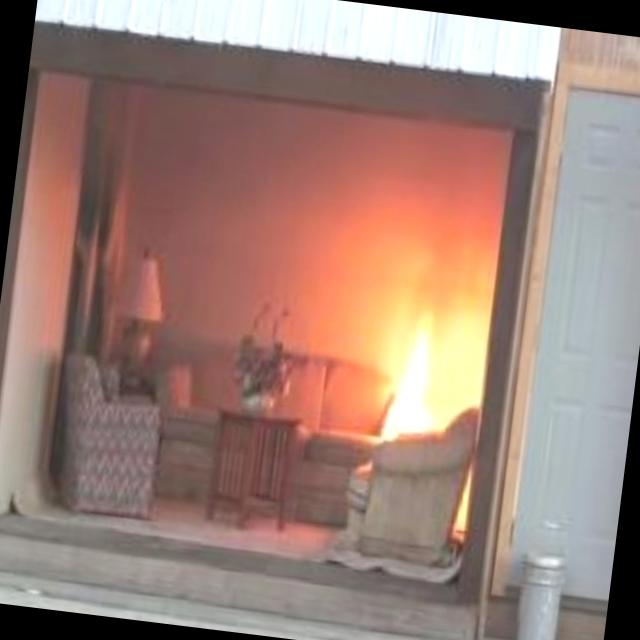fire: (356, 250, 487, 450)
